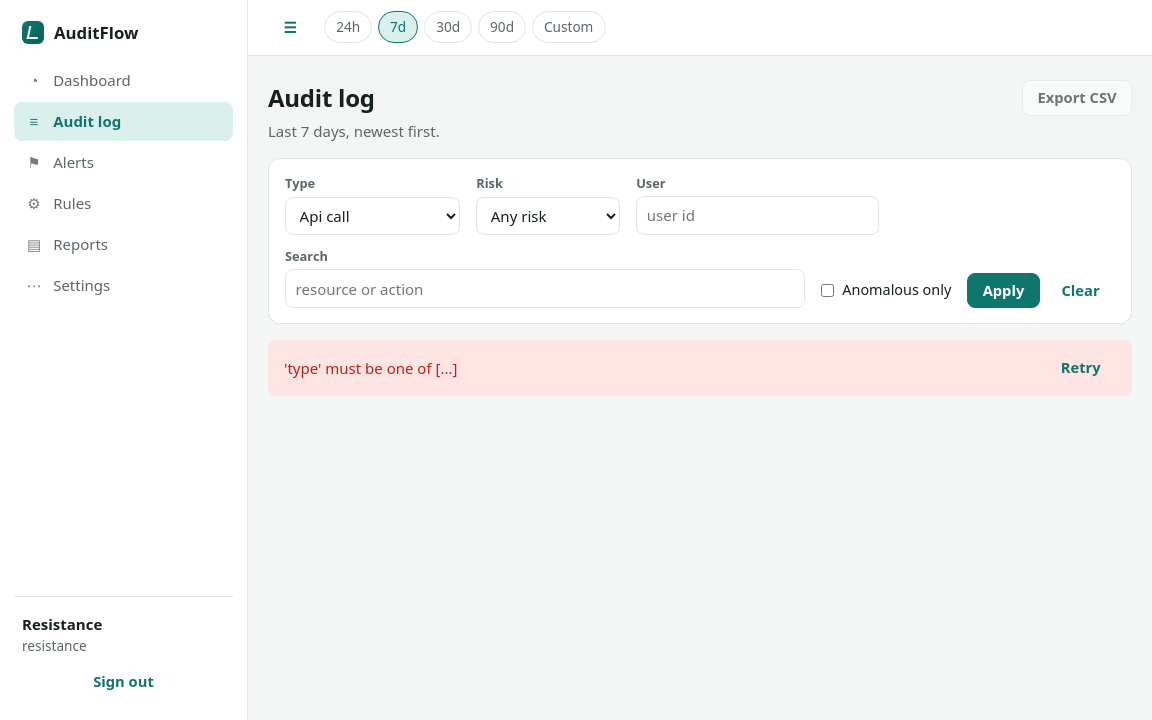
Test: audit log explorer › shows empty and error states
Check: the message shows "'type' must be one of", box [284, 358, 457, 378]
Click the button "Retry" at point(1081, 368), box [1045, 350, 1116, 386]
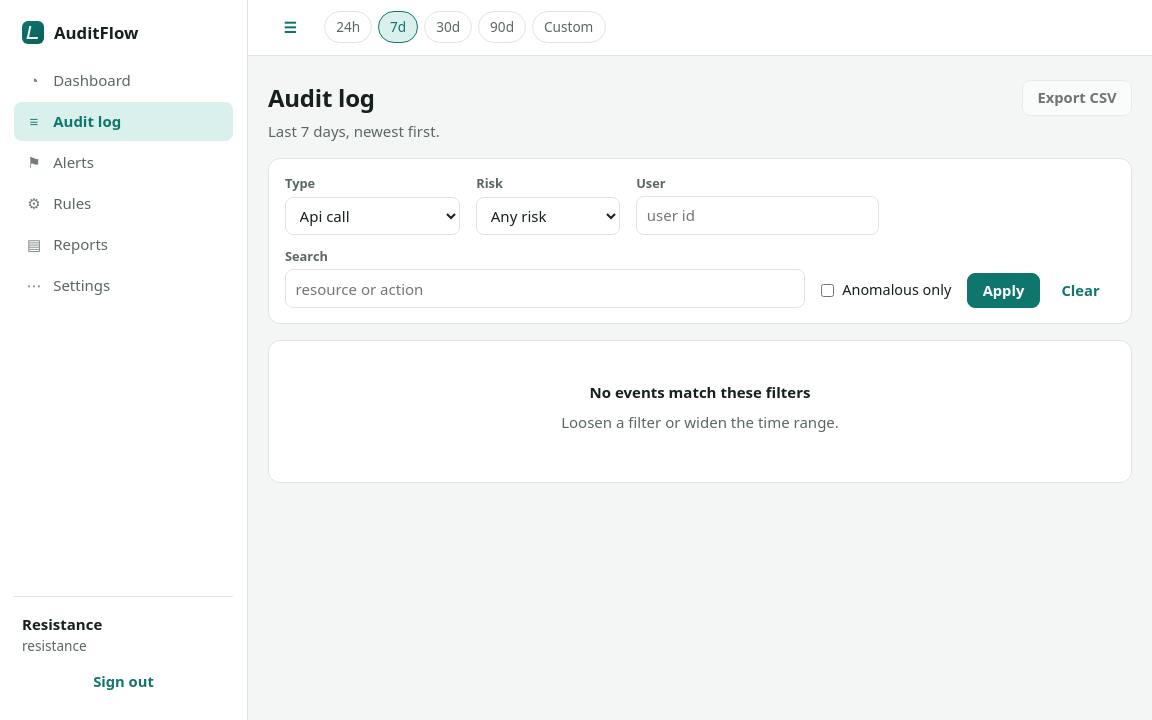
Check: the button "Export CSV" is disabled, box [1022, 80, 1132, 116]
Check: the text "No events match these filters" is shown, box [590, 382, 810, 402]
